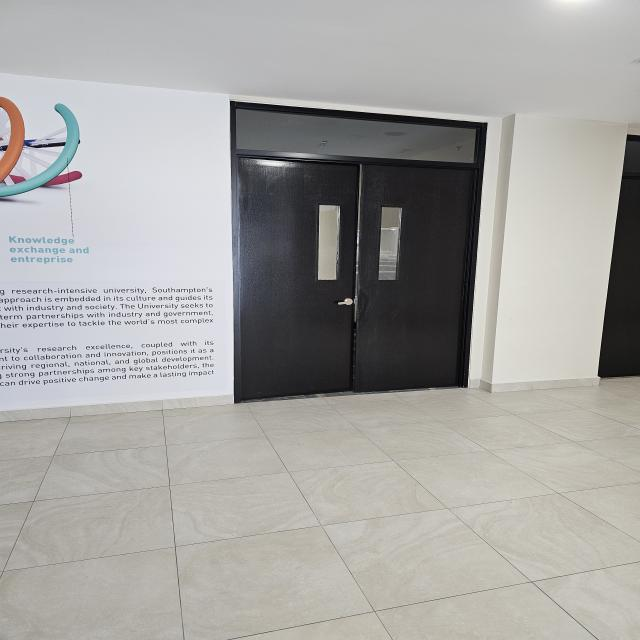door: (218, 146, 488, 404)
footpath: (1, 414, 640, 640)
